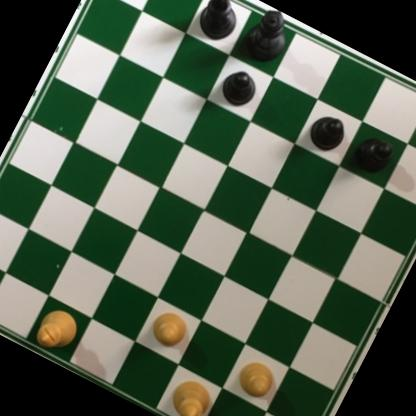black-bishop: (192, 0, 247, 47)
black-pawn: (302, 107, 352, 157), (213, 63, 262, 111), (351, 131, 398, 178)
black-queen: (235, 2, 298, 71)
white-bishop: (29, 300, 85, 363), (161, 372, 219, 416)
white-pawn: (231, 353, 282, 404), (145, 305, 193, 354)
